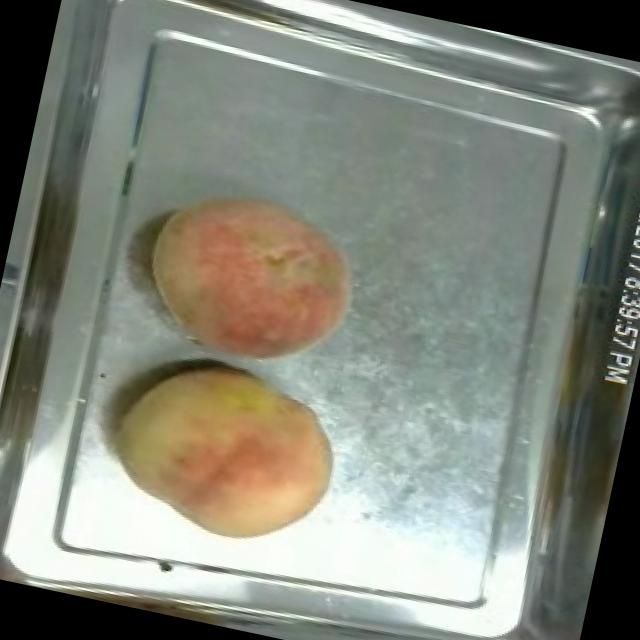Fruit: (95, 336, 355, 566), (127, 168, 376, 390)
